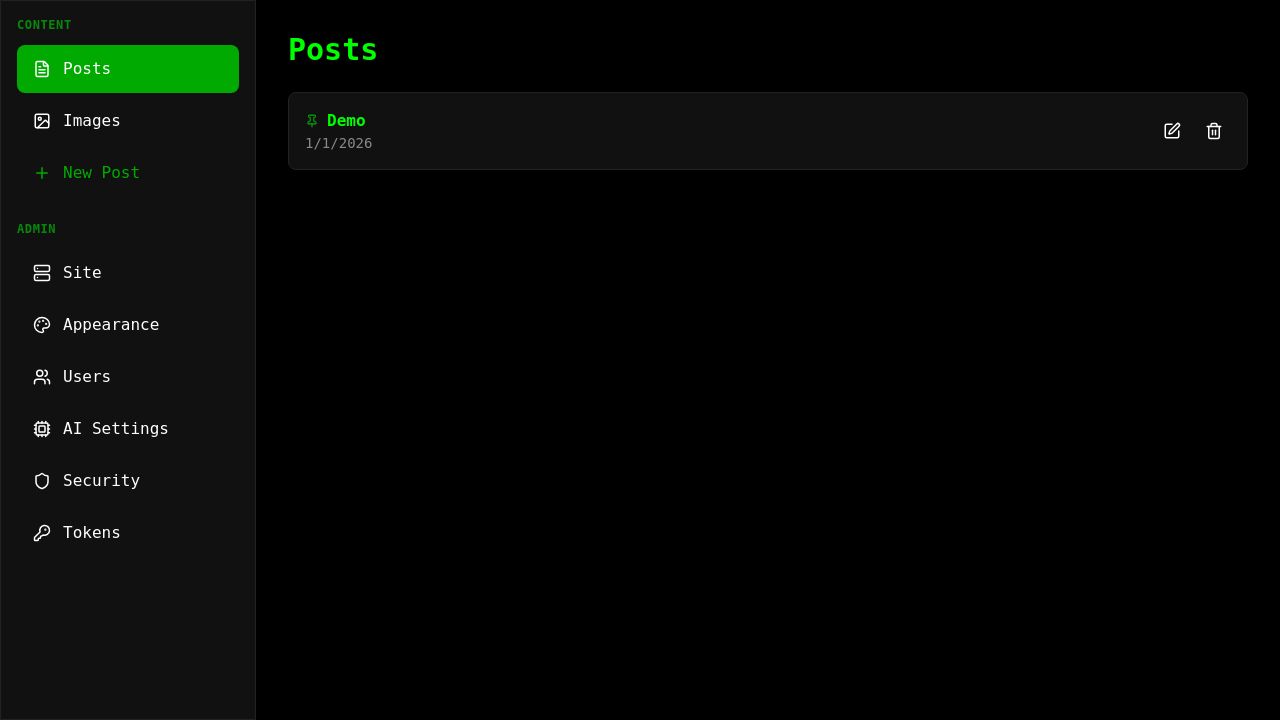
Test case: Admin full coverage › fetchThemeCatalog empty falls back to admin themes string list
Click the button "Appearance" at [128, 325], box 17,301 -> 239,349
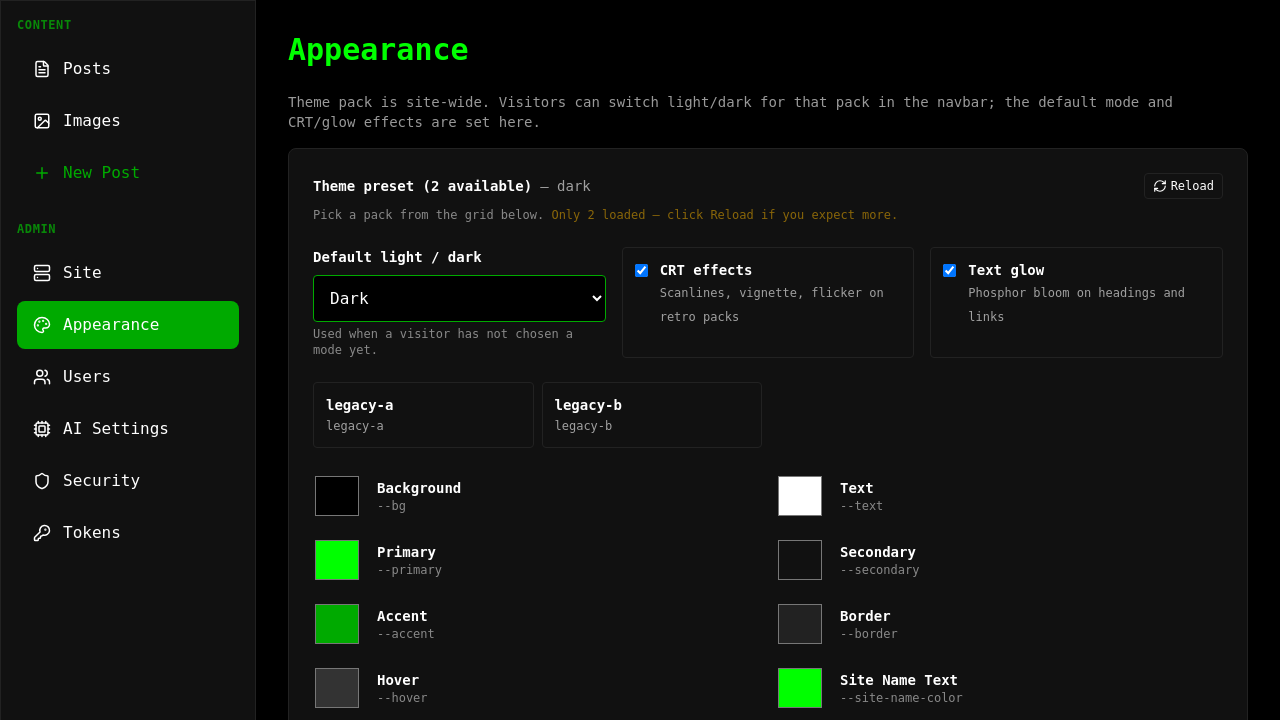
Result: the button with test id "theme-card-legacy-a" is shown at 313,382 -> 534,448
